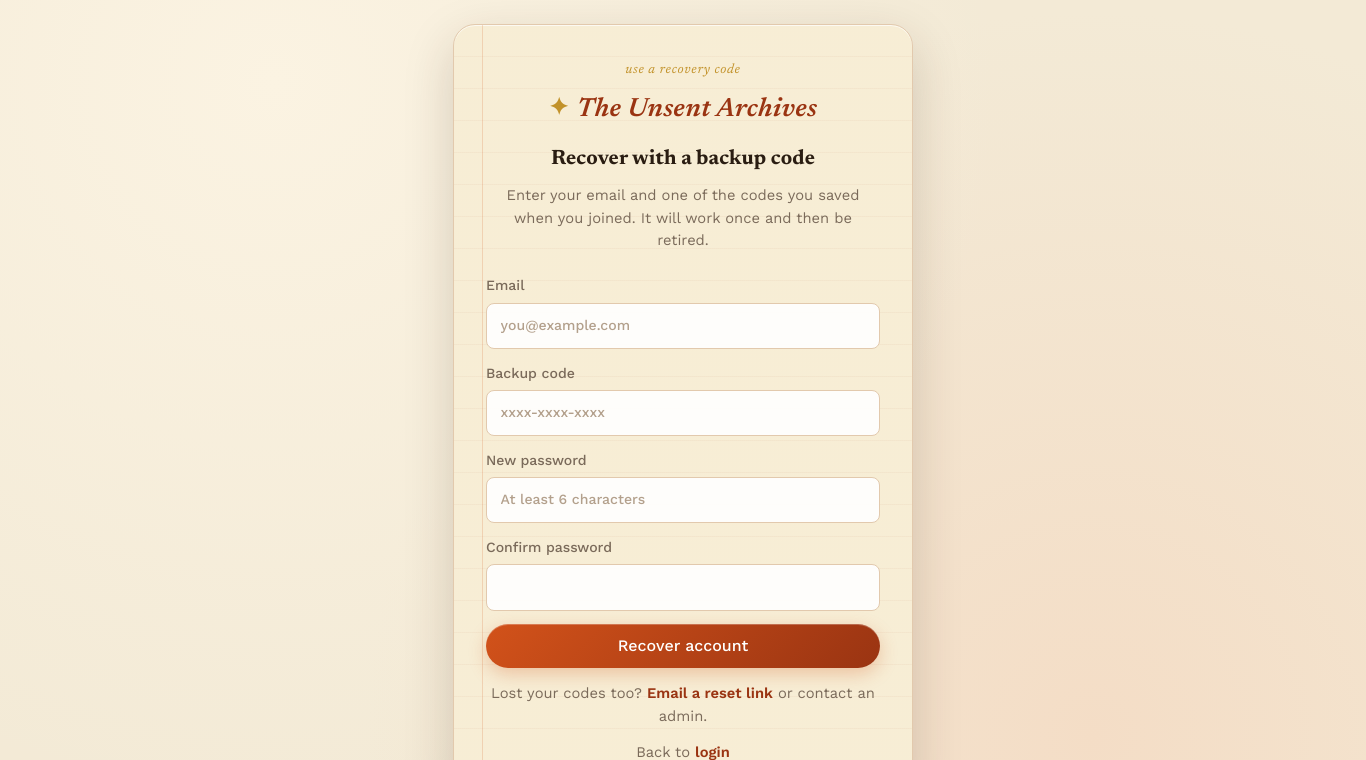
RecoverWithCode page › shows the API error message and stays on the form
Type "me@example.com" into the field labelled "Email" at (683, 326), box [486,303,880,349]
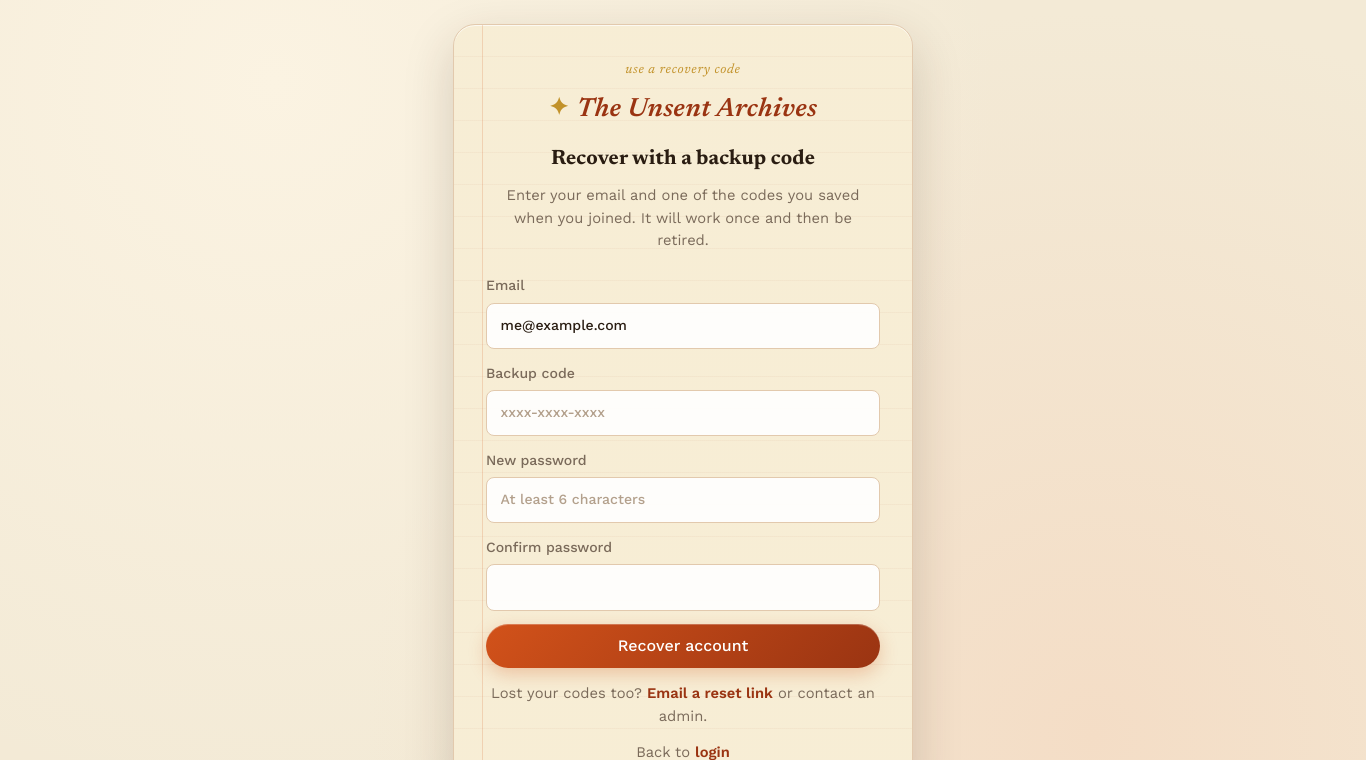
Type "aaaa-bbbb-cccc" into the field labelled "Backup code" at (683, 413), box [486,390,880,436]
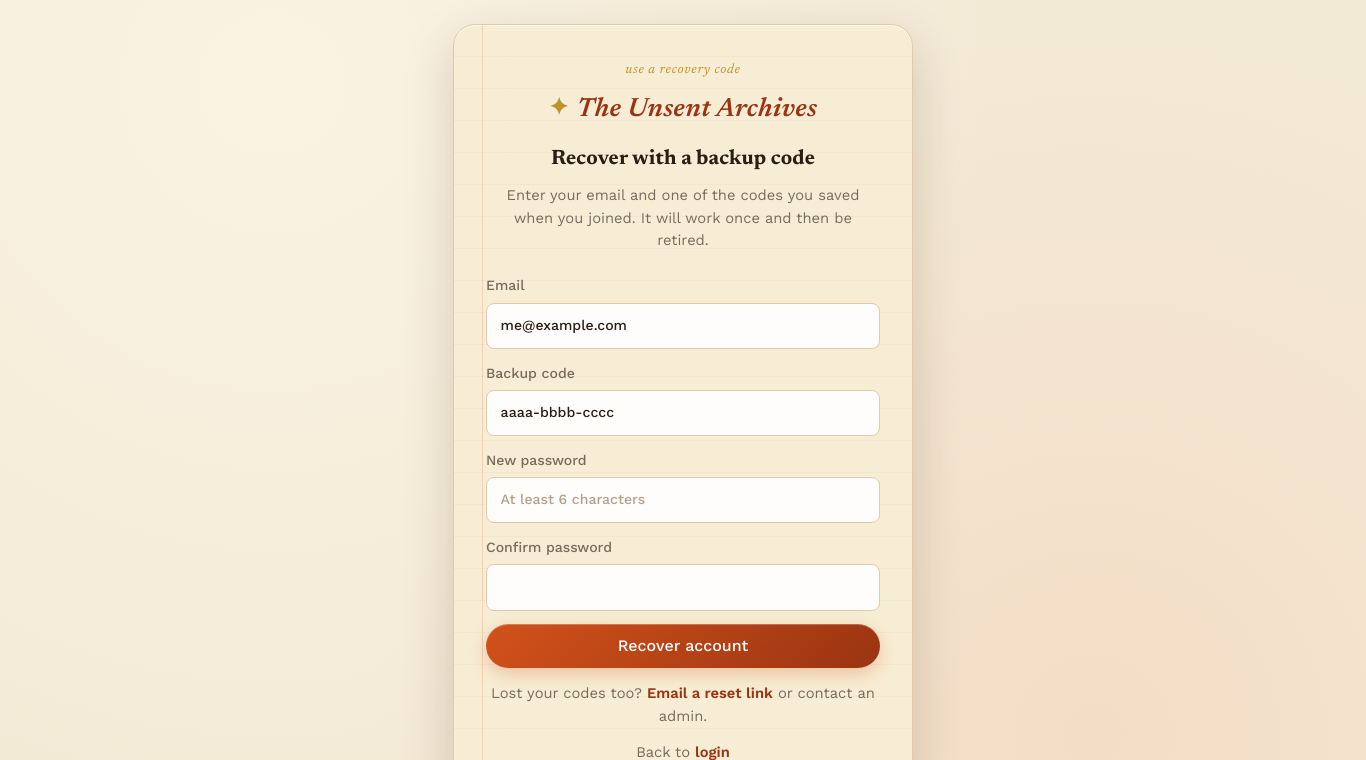
Type "hunter22" into the password field labelled "New password" at (683, 500), box [486,477,880,523]
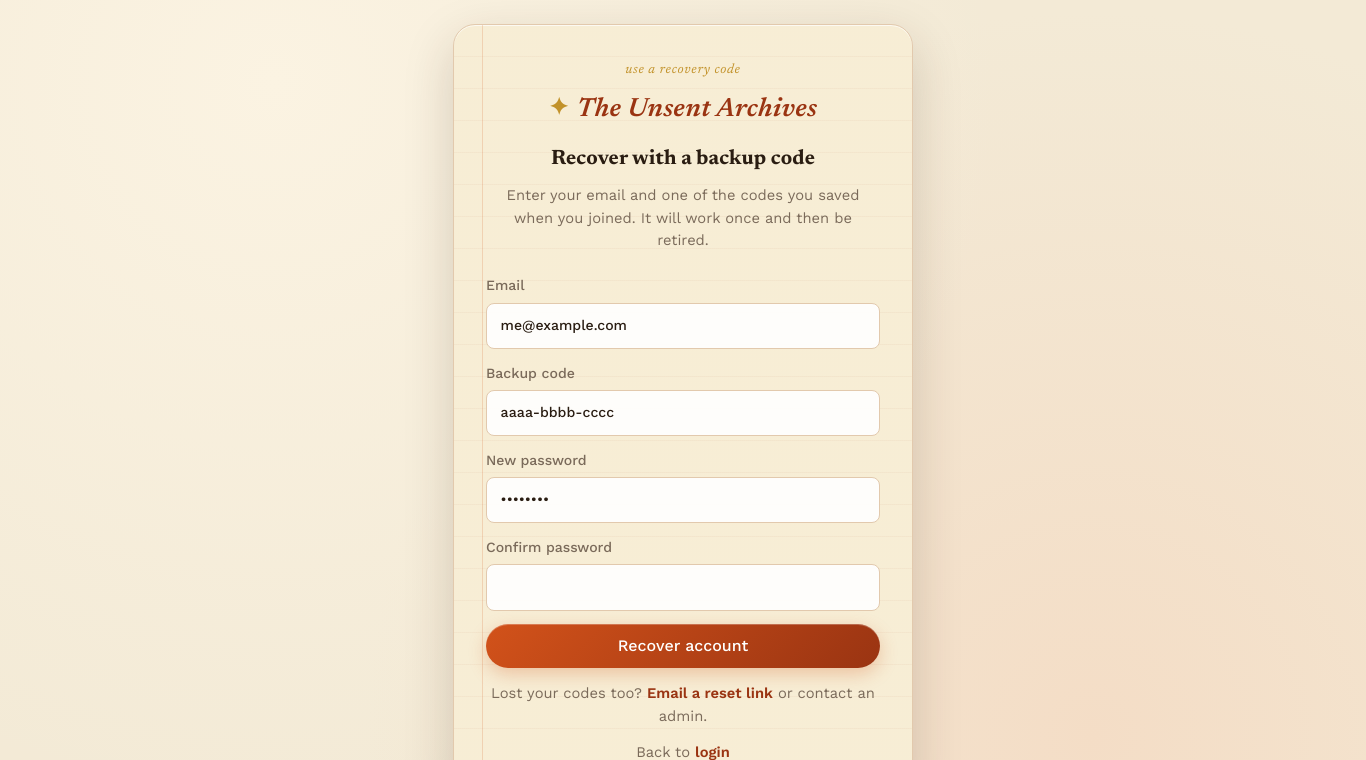
Type "hunter22" into the password field labelled "Confirm password" at (683, 587), box [486,564,880,610]
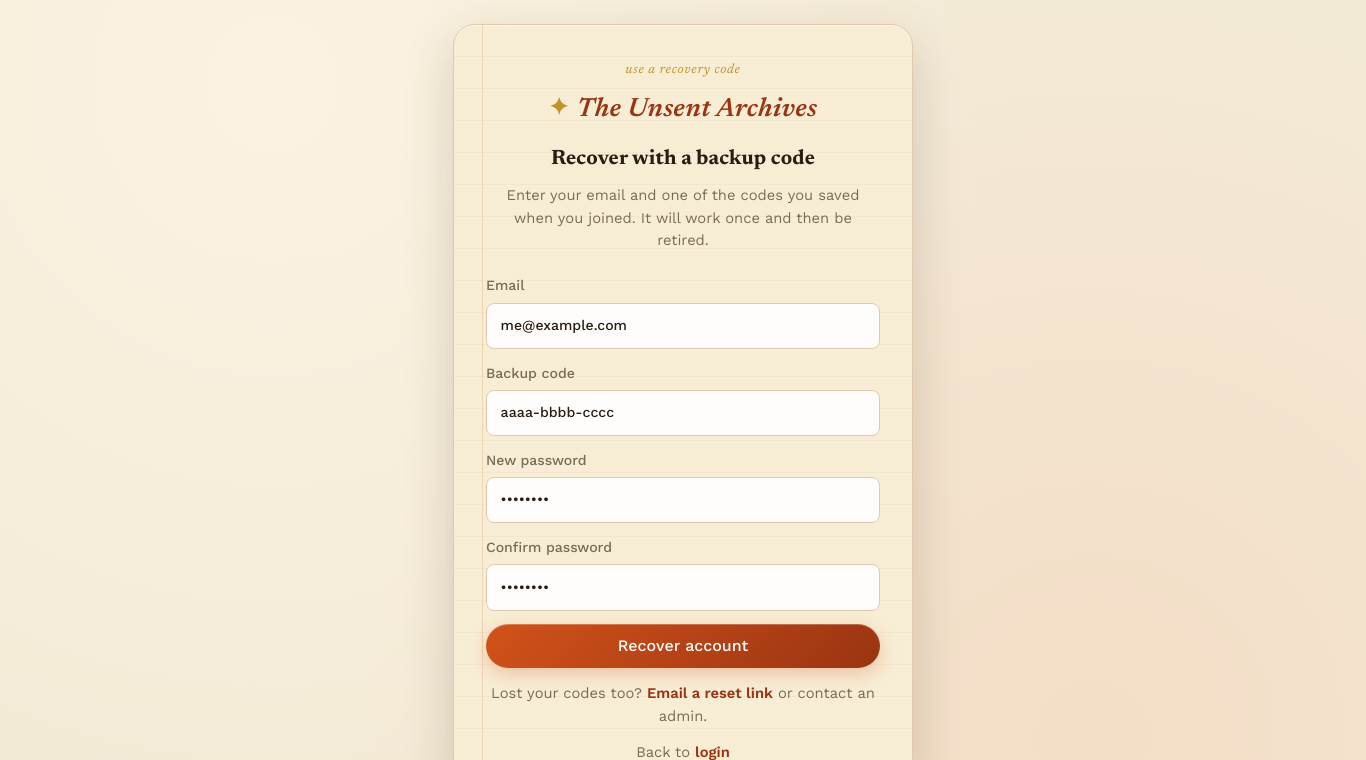
Click the button "Recover account" at (683, 646), box [486,624,880,668]
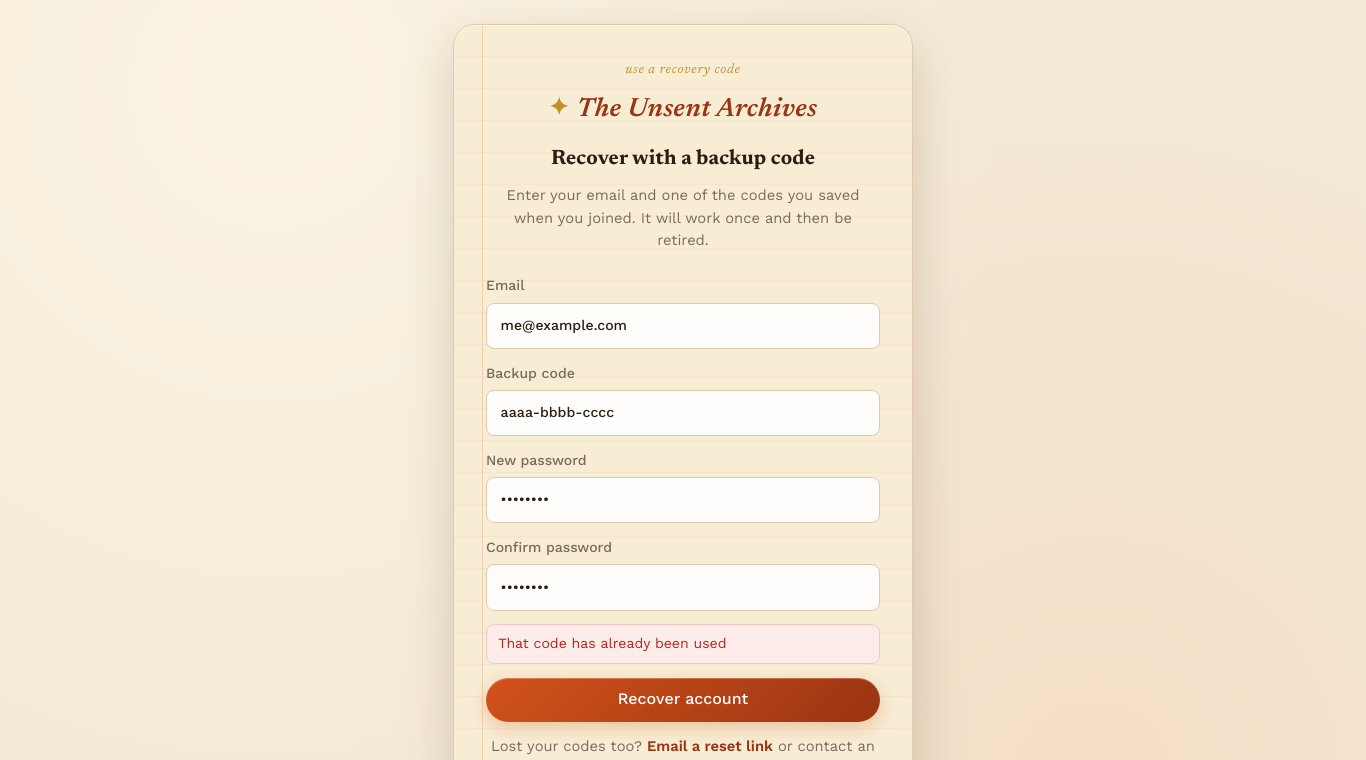
Check: the button "Recover account" is enabled, box [486,678,880,722]
Check: the text "That code has already been used" is shown, box [486,624,880,664]
